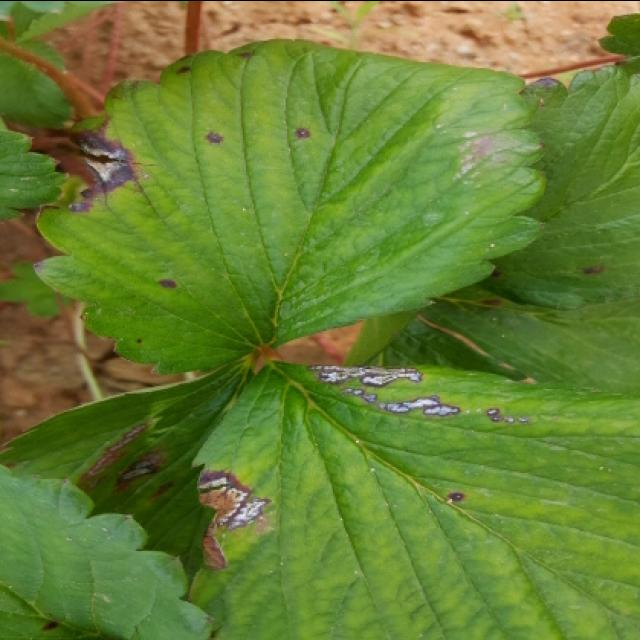Leaf Spot: (31, 36, 548, 378), (189, 354, 638, 638), (340, 64, 638, 390), (0, 356, 257, 638)
